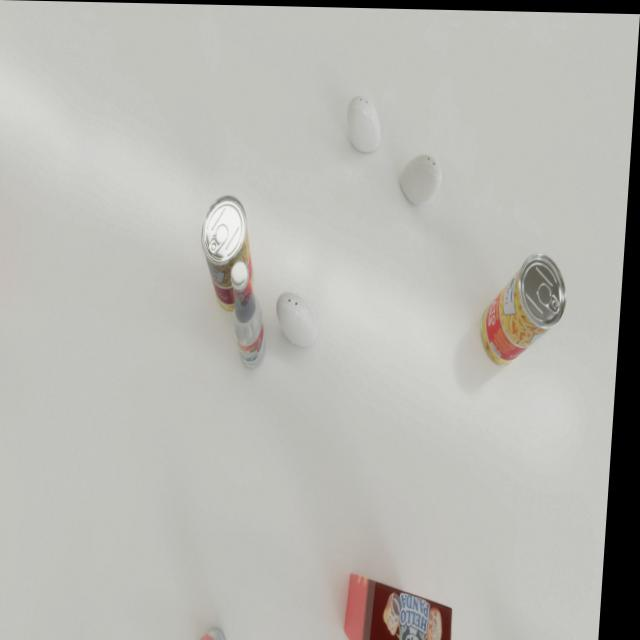Bottle: (229, 258, 275, 370)
HelloPanda: (351, 571, 463, 640)
Potato_sticks: (483, 250, 573, 364), (200, 194, 262, 311)
Salt: (278, 290, 324, 346), (401, 151, 445, 204), (346, 94, 384, 151)
